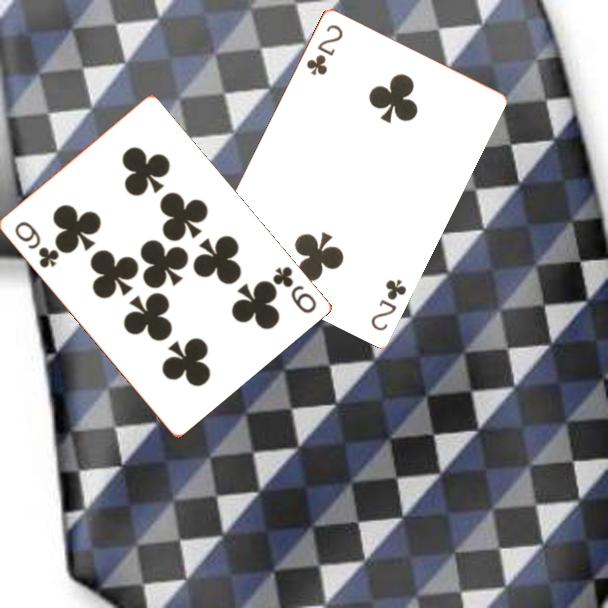c02: (303, 21, 346, 78), (367, 275, 409, 333)
c09: (11, 218, 62, 271), (269, 263, 319, 317)
